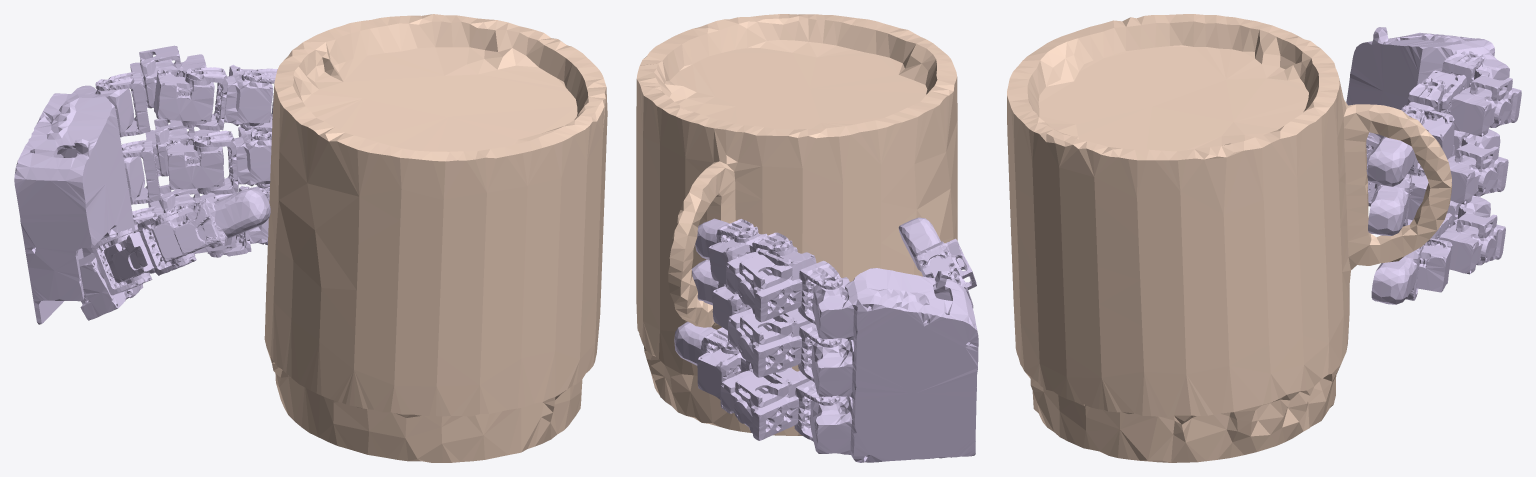
File: eceb50a10a8b9f-closed.glb
3 views of the same model, side by side, from view 1: azimuth 30°, elevation 25°; view 2: azimuth 150°, elevation 25°; view 3: azimuth 270°, elevation 25° (orthographic). The views are drawn at different scales.
Parts seen in each view (by area): view 1: world, LEAP_hand; view 2: world, LEAP_hand; view 3: world, LEAP_hand.
Boxes of the visible parts, x1=… form: world: x1=264, y1=14, x2=607, y2=462; LEAP_hand: x1=14, y1=45, x2=277, y2=324; world: x1=636, y1=14, x2=957, y2=435; LEAP_hand: x1=674, y1=217, x2=978, y2=462; world: x1=1007, y1=14, x2=1451, y2=462; LEAP_hand: x1=1346, y1=27, x2=1521, y2=304.
Size of the model in its own units: 0.3235 by 0.2218 by 0.3188.
